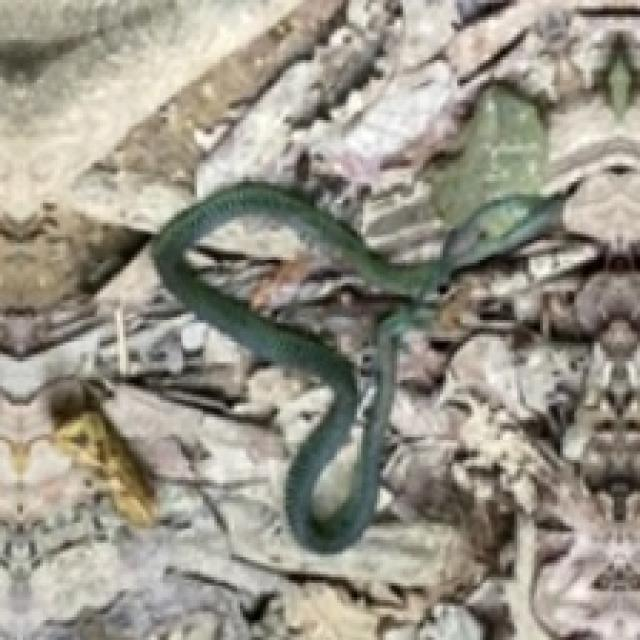paradise tree snake: (151, 180, 557, 551), (186, 211, 403, 509)
